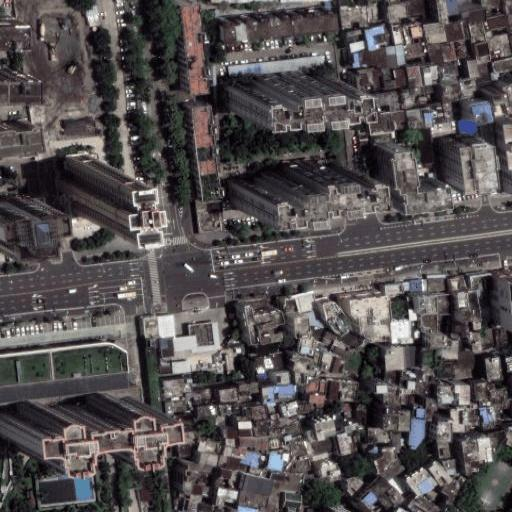building: (0, 394, 141, 456), (0, 342, 130, 386), (229, 162, 343, 207), (223, 72, 328, 110), (0, 373, 130, 402), (374, 140, 434, 202), (217, 5, 331, 37), (183, 101, 214, 198), (63, 155, 101, 216), (0, 200, 48, 245), (227, 55, 325, 77), (348, 296, 393, 343), (441, 134, 481, 183), (235, 301, 276, 343), (354, 477, 403, 512), (493, 115, 512, 185), (461, 438, 493, 476), (183, 463, 215, 499), (165, 419, 193, 458), (492, 270, 512, 323), (373, 448, 405, 480), (317, 299, 346, 334), (476, 380, 509, 410), (120, 482, 153, 512), (195, 195, 221, 233), (381, 346, 420, 371), (0, 120, 31, 151), (469, 22, 490, 64), (457, 290, 482, 325), (408, 467, 437, 496), (483, 80, 509, 112), (427, 462, 454, 492), (326, 379, 359, 402), (452, 405, 479, 433), (242, 474, 274, 497), (485, 34, 512, 61), (430, 335, 459, 360), (413, 127, 433, 163), (288, 353, 322, 374), (405, 369, 431, 395), (363, 91, 391, 115), (340, 6, 368, 30), (363, 26, 390, 50), (305, 376, 328, 404), (0, 17, 24, 43), (366, 112, 394, 134), (467, 59, 491, 84), (353, 69, 376, 95), (405, 107, 432, 129), (253, 354, 286, 372), (468, 328, 495, 350), (409, 419, 428, 450), (284, 294, 315, 313), (286, 434, 309, 459), (240, 493, 271, 511), (400, 87, 427, 107), (410, 495, 441, 512), (320, 353, 345, 374), (262, 384, 292, 401), (460, 97, 482, 120), (374, 70, 396, 93), (315, 419, 338, 441), (391, 321, 413, 344), (343, 474, 365, 497), (477, 290, 493, 321), (315, 498, 350, 512), (440, 81, 462, 103), (445, 20, 467, 41), (438, 63, 459, 85), (365, 48, 387, 69), (384, 45, 405, 67), (281, 491, 303, 512), (424, 23, 447, 43), (275, 412, 302, 429), (64, 118, 92, 134), (482, 407, 503, 428), (403, 23, 423, 45), (386, 4, 408, 24), (214, 487, 237, 506), (406, 1, 426, 22), (320, 463, 340, 484), (406, 67, 425, 89), (435, 419, 453, 442), (172, 335, 197, 351), (422, 65, 440, 87), (348, 30, 366, 52), (157, 315, 175, 337), (163, 379, 185, 397), (488, 430, 506, 452), (402, 43, 425, 60), (485, 357, 502, 380), (459, 79, 479, 98), (267, 453, 287, 472), (418, 297, 438, 316), (0, 70, 18, 91), (484, 14, 509, 29), (142, 317, 159, 339), (454, 36, 470, 59), (245, 405, 268, 421), (210, 0, 330, 3), (436, 385, 454, 405), (391, 110, 408, 131), (282, 422, 303, 439), (440, 39, 456, 61), (338, 433, 354, 455), (159, 335, 174, 358), (383, 406, 398, 429), (292, 455, 311, 473), (426, 42, 442, 63), (458, 117, 479, 133), (430, 105, 446, 126), (437, 294, 453, 315), (285, 312, 300, 334), (459, 351, 477, 369), (453, 386, 470, 405), (223, 446, 244, 461), (470, 275, 491, 290), (389, 90, 403, 112), (366, 429, 388, 443), (383, 389, 401, 406), (351, 50, 367, 69), (366, 5, 382, 24), (394, 69, 408, 90), (239, 420, 256, 437), (437, 362, 454, 379), (300, 336, 318, 352), (424, 399, 437, 421), (462, 10, 481, 25), (437, 440, 452, 459), (391, 26, 405, 46), (171, 360, 191, 374), (199, 453, 219, 467), (495, 329, 509, 349), (256, 345, 279, 357), (197, 440, 220, 452), (222, 458, 243, 471), (219, 388, 238, 402), (254, 419, 270, 435), (282, 401, 299, 416), (422, 315, 437, 332), (242, 453, 260, 467), (383, 283, 401, 297), (193, 388, 212, 401), (409, 279, 428, 292), (238, 382, 258, 394), (197, 406, 217, 418), (428, 278, 446, 291), (256, 434, 271, 449), (240, 435, 257, 448), (449, 277, 466, 290), (219, 403, 239, 414), (392, 432, 402, 453), (443, 459, 456, 475), (188, 496, 201, 512), (398, 412, 408, 431), (454, 369, 473, 379), (276, 372, 290, 385), (158, 362, 172, 375), (221, 468, 234, 479), (226, 429, 240, 438), (239, 506, 260, 512), (198, 504, 211, 512), (215, 503, 226, 512), (416, 408, 425, 418), (473, 322, 483, 330), (403, 283, 410, 293), (227, 509, 239, 512)
